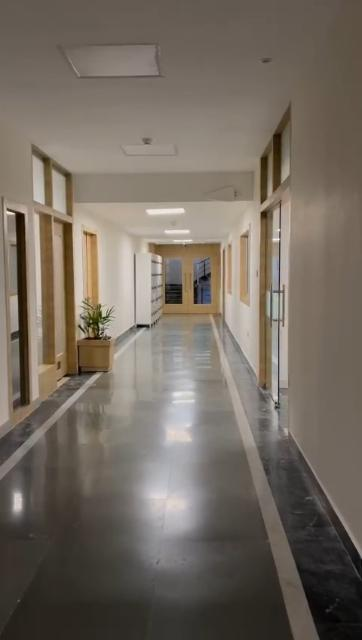door: (37, 160, 71, 380), (260, 137, 288, 397), (164, 245, 219, 317)
floor: (1, 314, 360, 640)
object: (77, 296, 113, 374)
wall: (299, 79, 362, 443), (75, 174, 259, 196), (0, 112, 30, 196), (108, 227, 130, 321), (314, 444, 362, 471), (250, 214, 258, 370), (232, 234, 240, 334), (77, 210, 81, 298), (240, 306, 249, 344), (84, 214, 104, 226), (226, 296, 232, 322)
